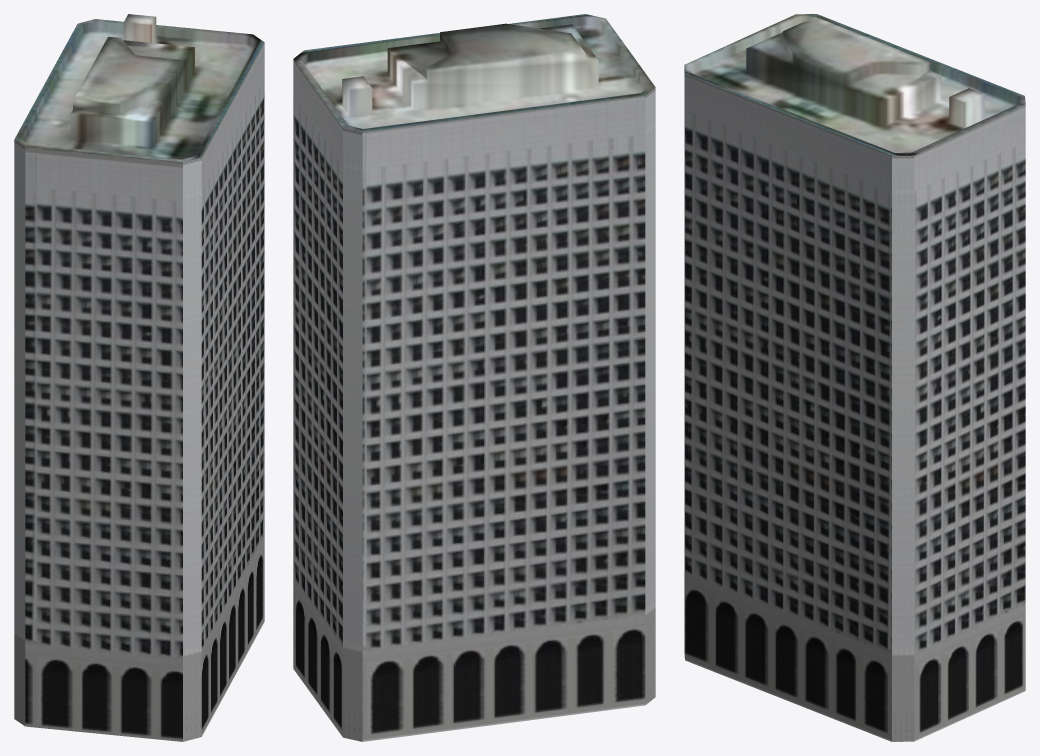
Rendered from Murray_Building.dae.
The picture shows the model from 3 angles, left to right: view 1: azimuth 30°, elevation 25°; view 2: azimuth 150°, elevation 25°; view 3: azimuth 270°, elevation 25°; orthographic projection. The views are drawn at different scales.
Parts seen in each view (by area): view 1: b, c, a; view 2: b, c, a; view 3: b, c, a.
Part boxes in pixels (<box>): b: <box>25,42,264,741</box>; c: <box>14,14,264,162</box>; a: <box>14,139,201,741</box>; b: <box>293,59,645,741</box>; c: <box>293,14,655,131</box>; a: <box>343,87,655,741</box>; b: <box>685,74,1025,741</box>; c: <box>684,14,1025,155</box>; a: <box>684,68,914,741</box>.
Size of the model in its own units: 53.19 by 54.13 by 107.
Materials: 3 (3 with a texture image).
